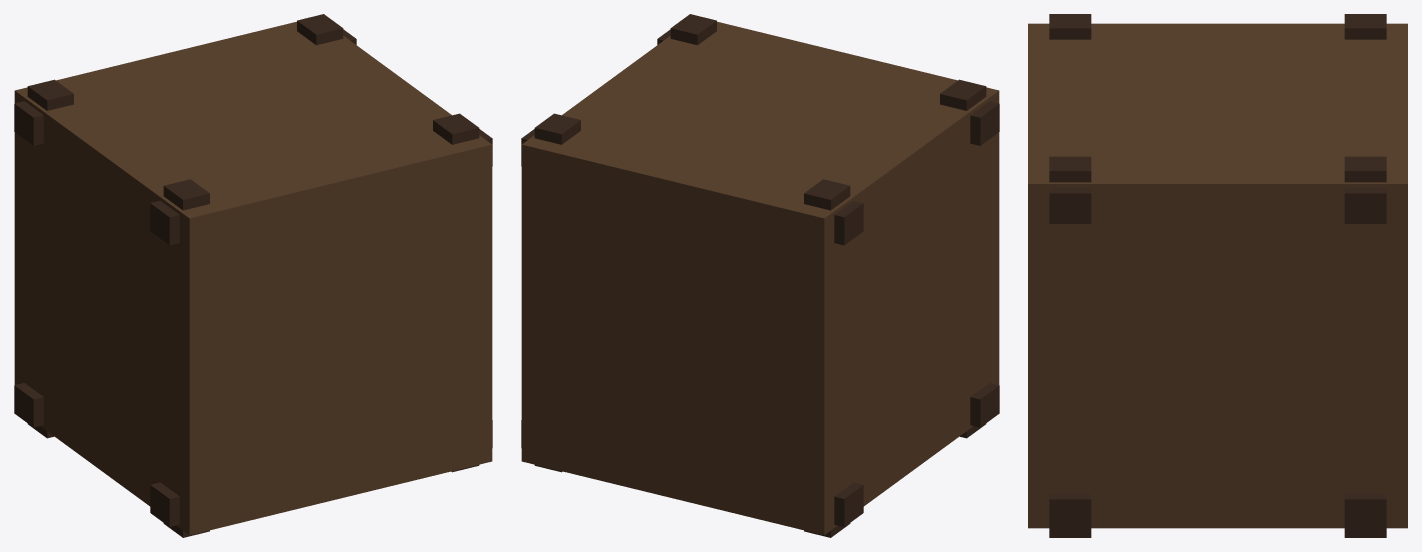
Rendered from SM_WoodenCrate.obj.
The picture shows the model from 3 angles, left to right: view 1: azimuth 30°, elevation 25°; view 2: azimuth 150°, elevation 25°; view 3: azimuth 270°, elevation 25°; orthographic projection. The views are drawn at different scales.
Bounding box in the file's own units: 0.96 × 0.96 × 0.9.
